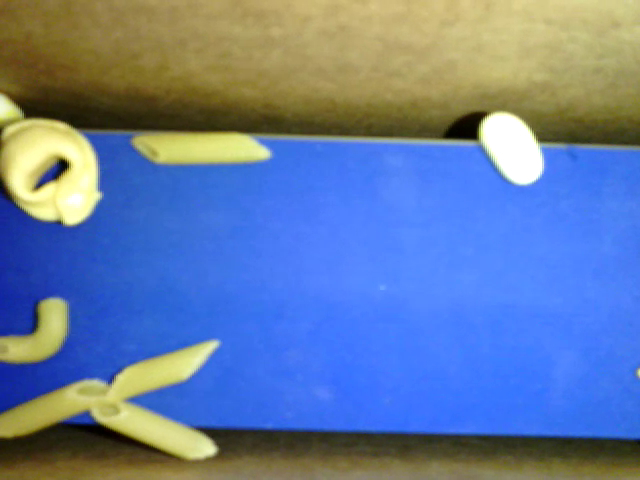elbow: (1, 297, 69, 363)
penne: (89, 398, 217, 461), (101, 338, 221, 405), (1, 377, 113, 437), (132, 131, 271, 165)
tortellini: (1, 118, 104, 227)
